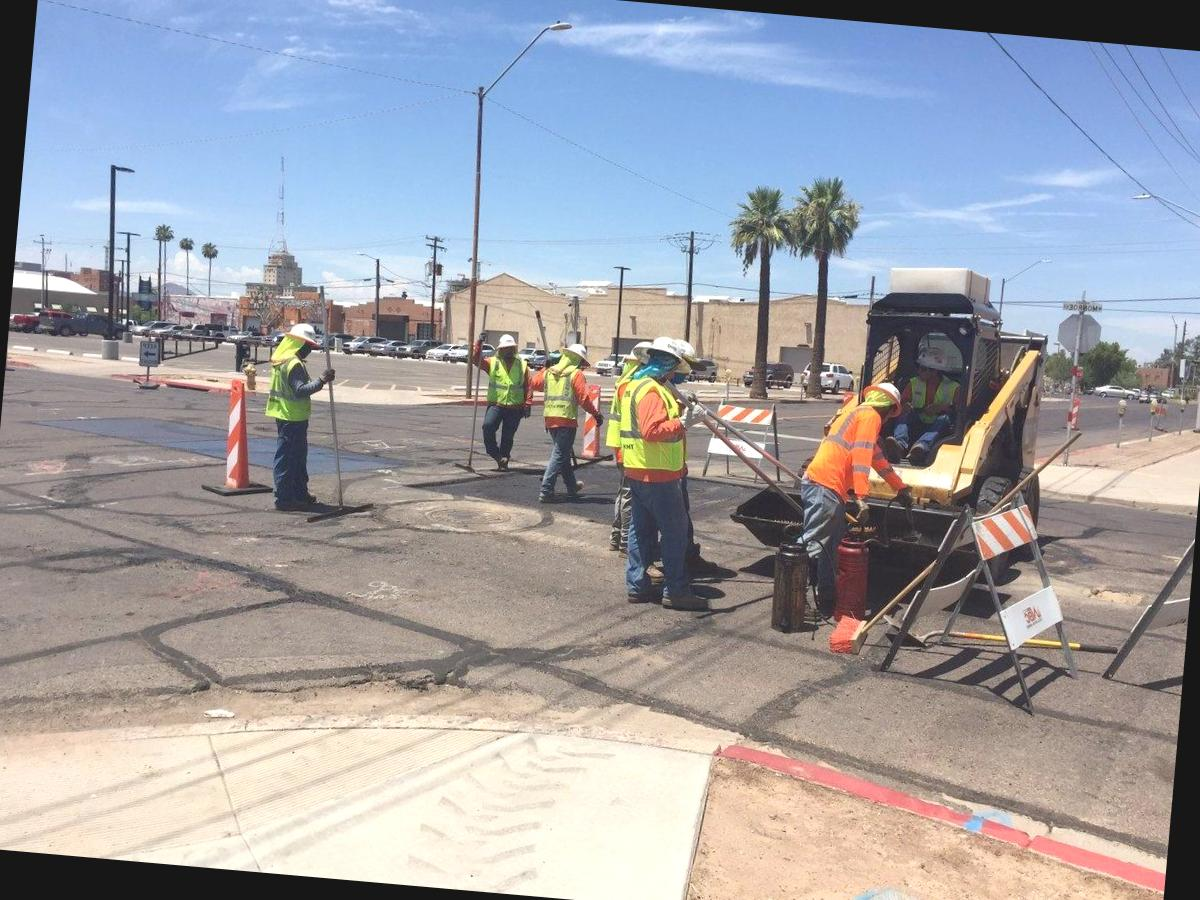person: (774, 367, 926, 633), (590, 335, 725, 620), (245, 302, 338, 522), (457, 318, 542, 484), (528, 334, 596, 516)
